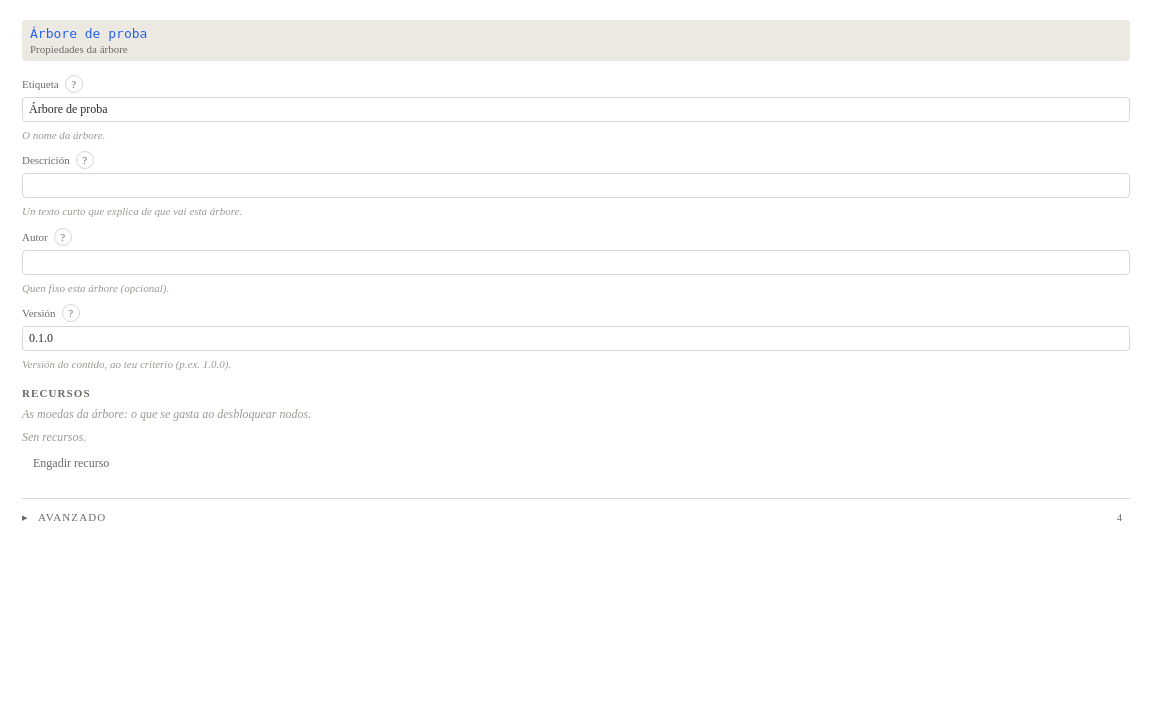
Test: ★ 7.12 — TreeInspector: identidade › ★ editar a etiqueta dispara setTreeField(label)
Replace the text in the field with id "tree-inspector-label" with "A miña árbore" at {"x": 576, "y": 110}, box x1=22 y1=97 x2=1130 y2=122
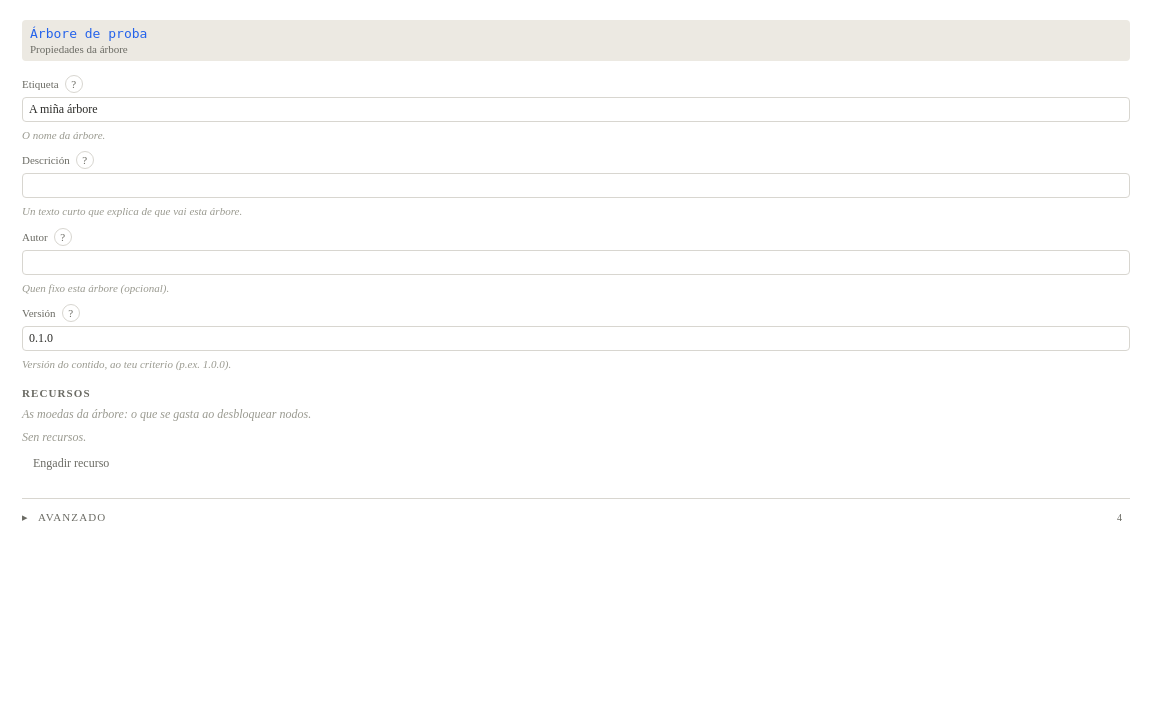
Leave the field with id "tree-inspector-label", box x1=22 y1=97 x2=1130 y2=122
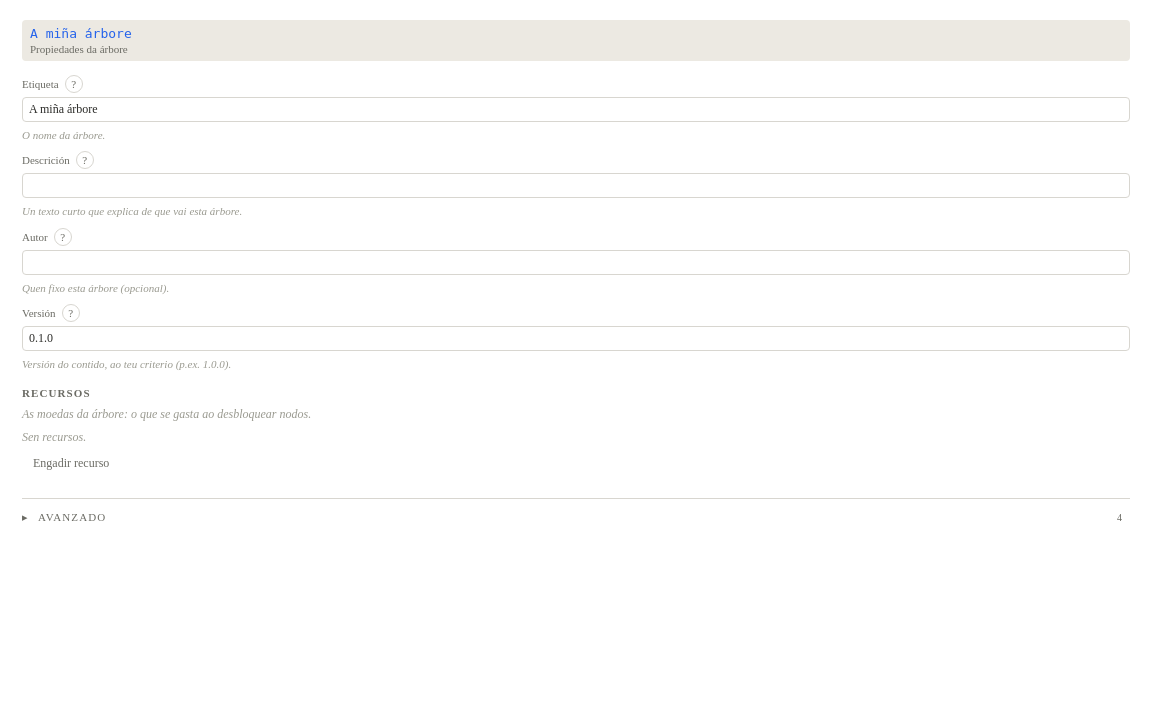
Expected: the text "A miña árbore" is shown, x1=30 y1=26 x2=132 y2=41
